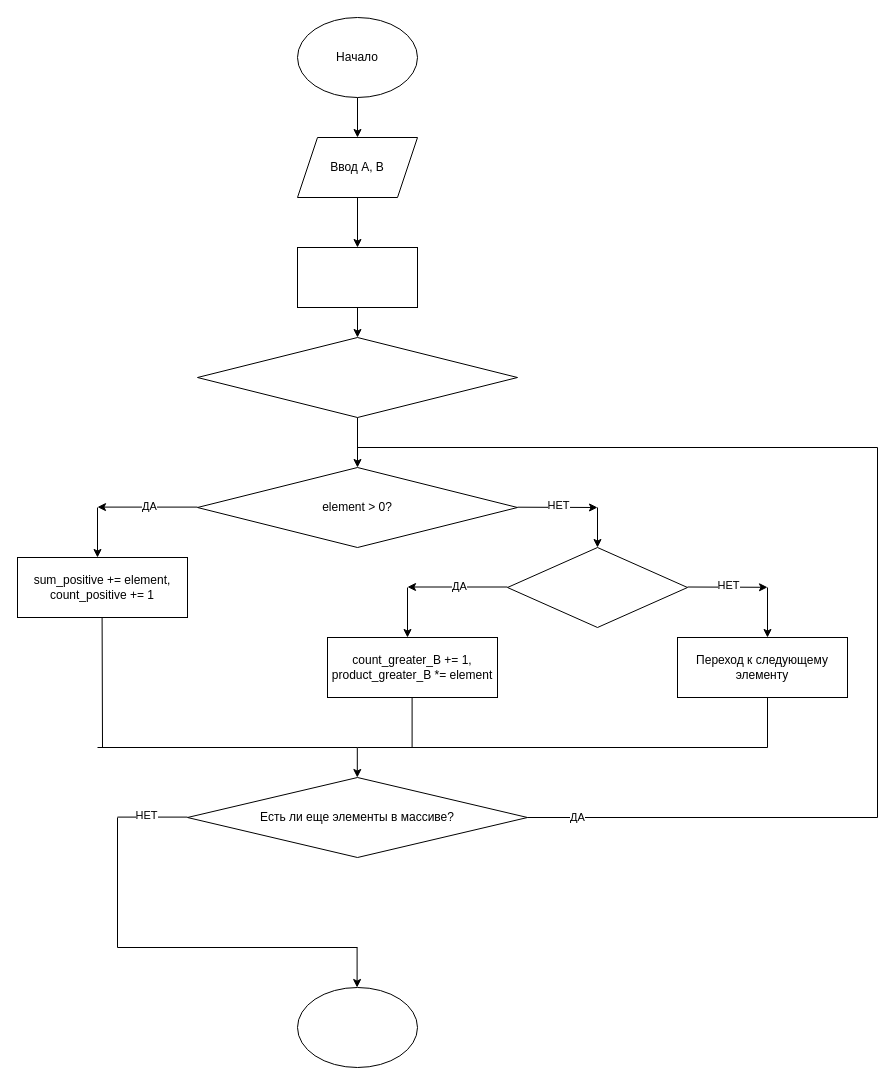
Image size: 896x1085. Some labels were removed from this diagram. The centre of each missing label's shape, as x and y in pixels:
"element > B?" goes at (597,587).
"Для каждого элемента массива А" goes at (357,377).
"Инициализация переменных" goes at (357,277).
"КОНЕЦ" goes at (357,1027).
